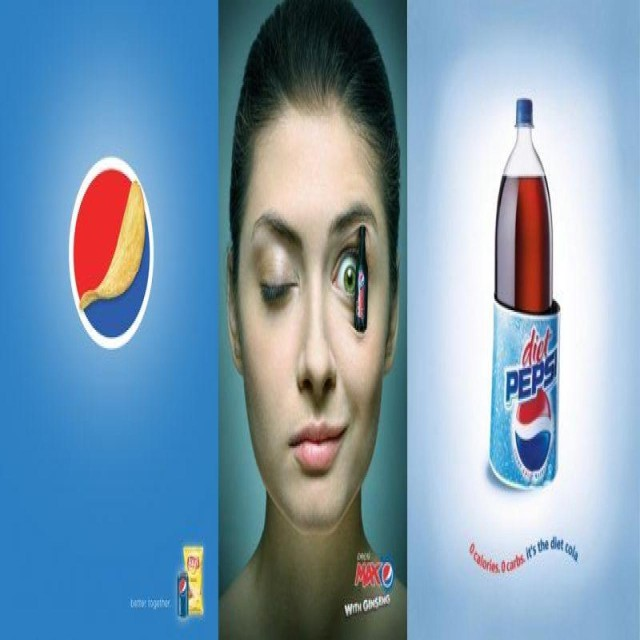pepsi: (69, 158, 154, 352), (512, 376, 556, 479)
